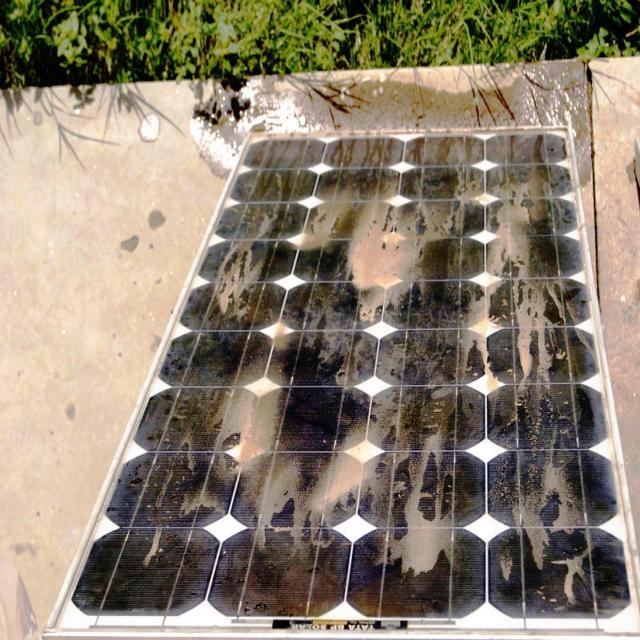faulty: (1, 6, 586, 518)
